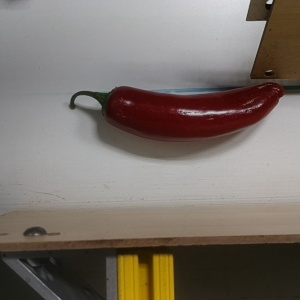Cut Point: (93, 84, 132, 123)
